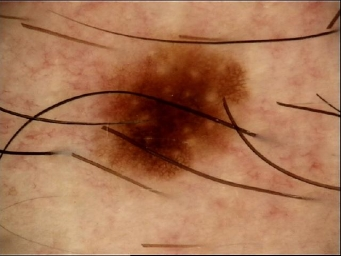melanoma: (107, 44, 248, 178)
